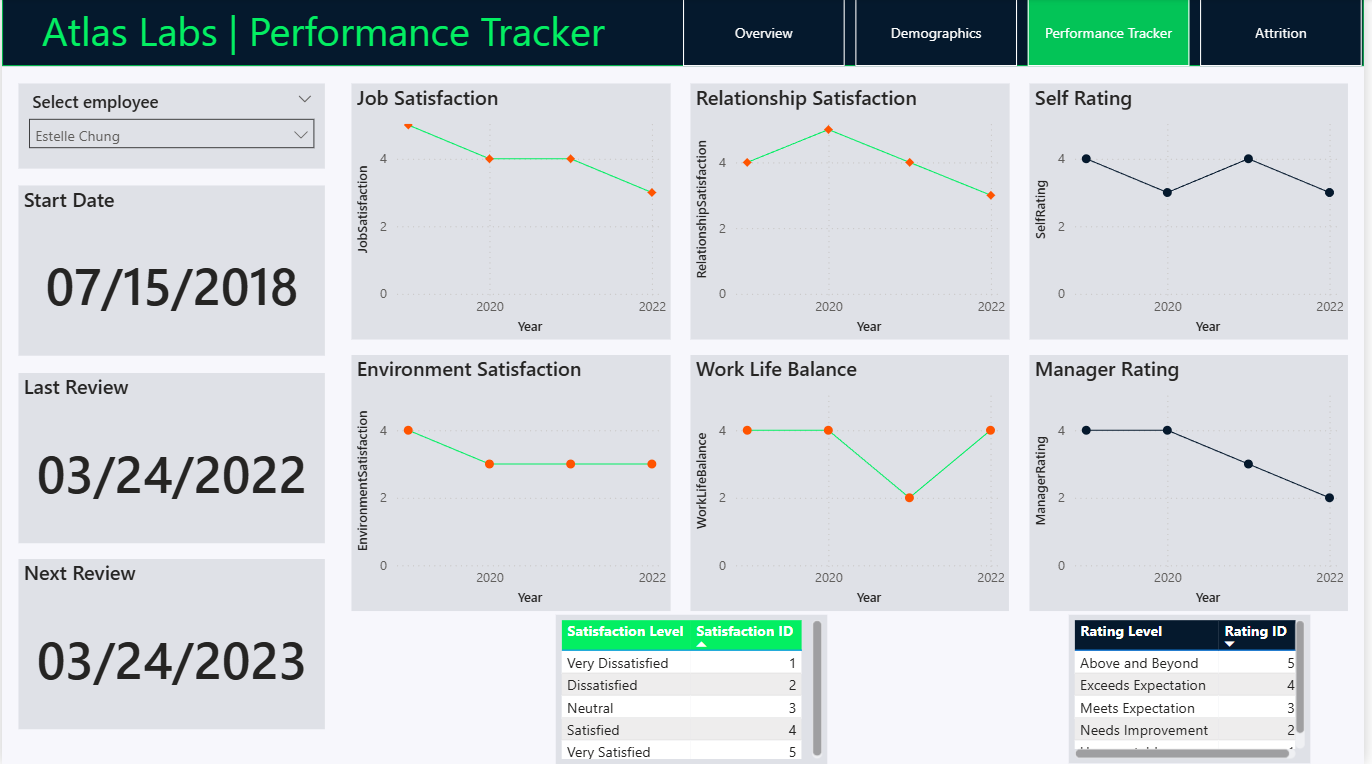

The dashboard page shown, as its layout file describes it:
{"tool":"powerbi","page":{"name":"Performance Tracker","canvas":[1280,720],"ordinal":2},"visuals":[{"type":"shape","box":[0,0,1280,64],"z":0},{"type":"textbox","box":[32,0,624,64],"z":1000},{"type":"pageNavigator","box":[640,0,640,64],"z":2000},{"type":"slicer","fields":{"Values":["DimEmployee.FullName"]},"box":[16,80,288,80],"z":3000},{"type":"card","title":"Start Date","fields":{"Values":["Min(DimEmployee.HireDate)"]},"box":[16,176,288,160],"z":4000},{"type":"card","title":"Last Review","fields":{"Values":["_Measures.LastReviewDate"]},"box":[16,352,288,160],"z":5000},{"type":"card","title":"Next Review","fields":{"Values":["_Measures.NextReviewDate"]},"box":[16,528,288,160],"z":6000},{"type":"lineChart","title":"Job Satisfaction","fields":{"Y":["_Measures.JobSatisfaction"],"Category":["DimDate.Year"]},"box":[328.3,79.8,300,240.3],"z":7000},{"type":"lineChart","title":"Relationship Satisfaction","fields":{"Y":["_Measures.RelationshipSatisfaction"],"Category":["DimDate.Year"]},"box":[646.9,79.8,300,240.3],"z":8000},{"type":"lineChart","title":"Self Rating","fields":{"Y":["_Measures.SelfRating"],"Category":["DimDate.Year"]},"box":[965.5,79.8,299.7,240.3],"z":9000},{"type":"lineChart","title":"Work Life Balance","fields":{"Y":["_Measures.WorkLifeBalance"],"Category":["DimDate.Year"]},"box":[647.4,335.5,299.7,240.3],"z":10000},{"type":"lineChart","title":"Manager Rating","fields":{"Y":["_Measures.ManagerRating"],"Category":["DimDate.Year"]},"box":[965.5,335.5,299.7,240.3],"z":11000},{"type":"lineChart","title":"Environment Satisfaction","fields":{"Y":["_Measures.EnvironmentSatisfaction"],"Category":["DimDate.Year"]},"box":[328.3,335.5,300,240.3],"z":12000},{"type":"tableEx","fields":{"Values":["DimRatingLevel.RatingLevel","DimRatingLevel.RatingID"]},"box":[1002.3,579.9,227,140.1],"z":13000},{"type":"tableEx","fields":{"Values":["DimSatisfiedLevel.SatisfactionLevel","DimSatisfiedLevel.SatisfactionID"]},"box":[520.8,580,255.6,140.6],"z":14000}]}

Visuals, with their boxes in screenshot pixels (x1, y1, x2, y2), scaled from the page's 1280x720 canvas onto the 1372x764 screenshot:
shape: 0,0,1371,68
textbox: 34,0,703,68
pageNavigator: 686,0,1371,68
slicer - DimEmployee.FullName: 17,85,326,170
"Start Date" card: 17,187,326,357
"Last Review" card: 17,374,326,543
"Next Review" card: 17,560,326,730
"Job Satisfaction" lineChart: 352,85,673,340
"Relationship Satisfaction" lineChart: 693,85,1015,340
"Self Rating" lineChart: 1035,85,1356,340
"Work Life Balance" lineChart: 694,356,1015,611
"Manager Rating" lineChart: 1035,356,1356,611
"Environment Satisfaction" lineChart: 352,356,673,611
tableEx - DimRatingLevel.RatingLevel x DimRatingLevel.RatingID: 1074,615,1318,763
tableEx - DimSatisfiedLevel.SatisfactionLevel x DimSatisfiedLevel.SatisfactionID: 558,615,832,763
